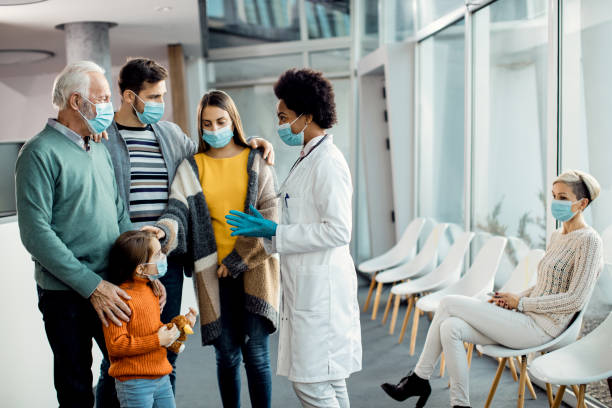with mask: (53, 62, 119, 135), (192, 89, 239, 148), (123, 66, 170, 125), (270, 89, 317, 148), (549, 175, 591, 227), (124, 233, 168, 280)
